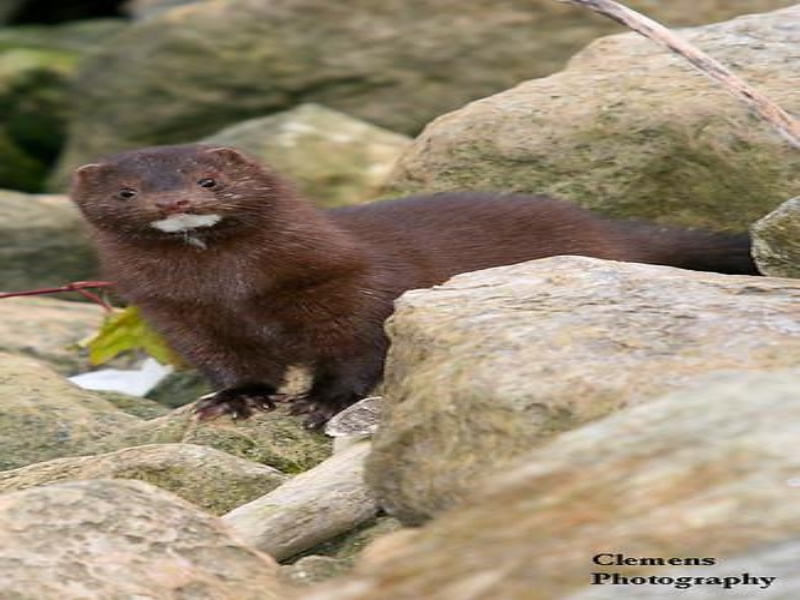minkish: (71, 141, 771, 433)
